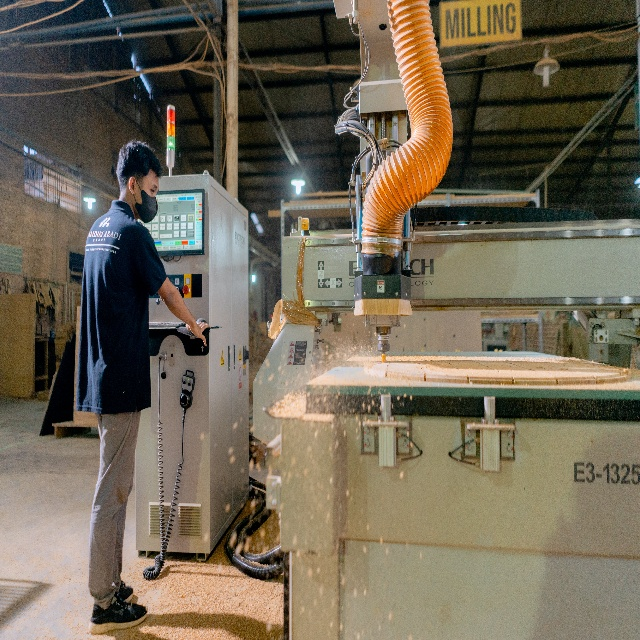Mascara: (131, 179, 158, 224)
Sin_guantes: (185, 321, 210, 347)
